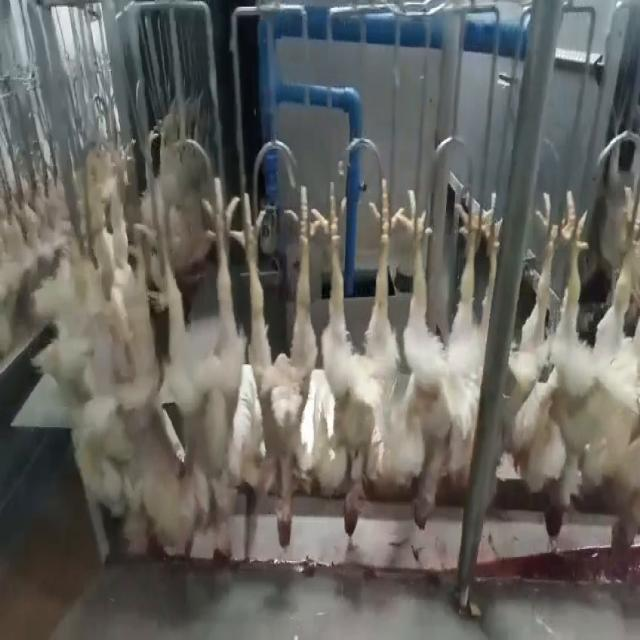chicken: (153, 172, 237, 568), (316, 168, 401, 552), (244, 170, 320, 553), (396, 192, 480, 534), (516, 185, 588, 550), (588, 197, 639, 557)
